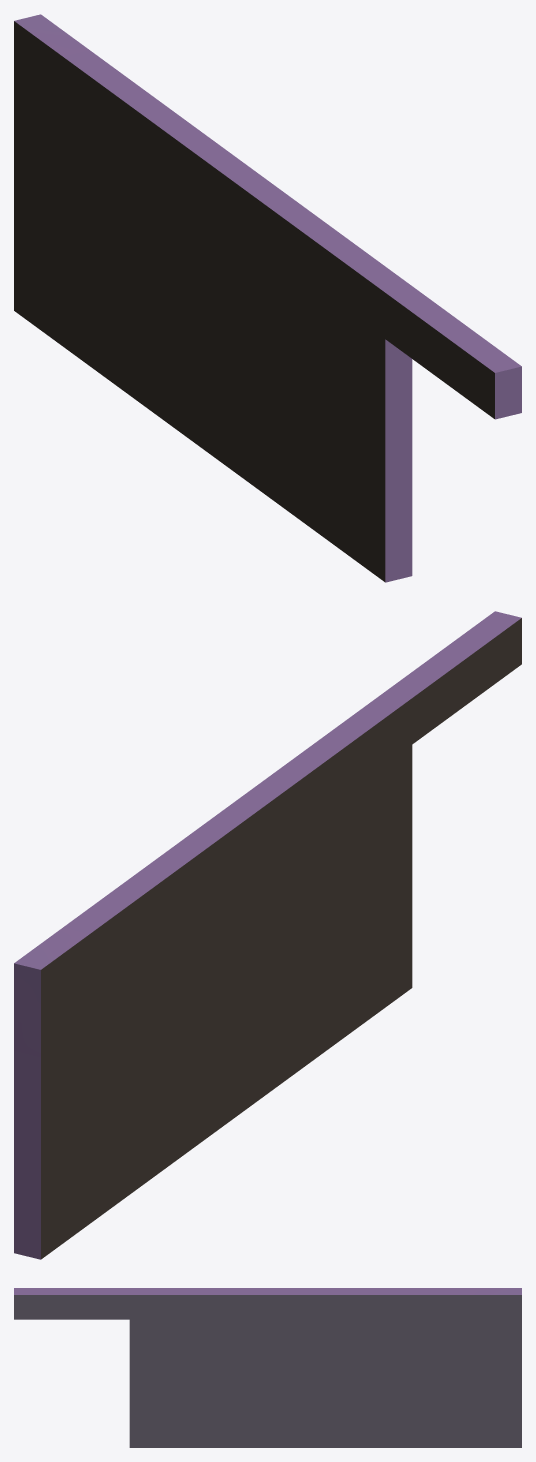
The model's file is kitchen wall2.fbx.
The picture shows the model from 3 angles, top to bottom: view 1: azimuth 30°, elevation 25°; view 2: azimuth 150°, elevation 25°; view 3: azimuth 270°, elevation 25°; orthographic projection. The views are drawn at different scales.
Visible parts, largest first — view 1: kitchen wall2; view 2: kitchen wall2; view 3: kitchen wall2.
Boxes of the visible parts, left/top/right/bottom form: kitchen wall2: left=14, top=14, right=521, bottom=582; kitchen wall2: left=14, top=611, right=521, bottom=1259; kitchen wall2: left=14, top=1288, right=521, bottom=1447.
Size of the model in its own units: 18 by 185 by 557.
